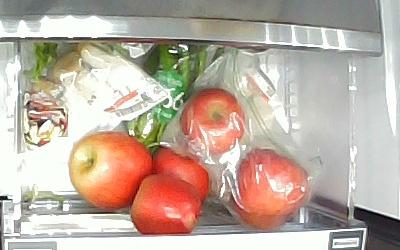apple: (70, 130, 153, 209), (130, 174, 201, 237), (152, 147, 209, 204)
apple_vinyl: (225, 147, 311, 230), (181, 88, 245, 158)
